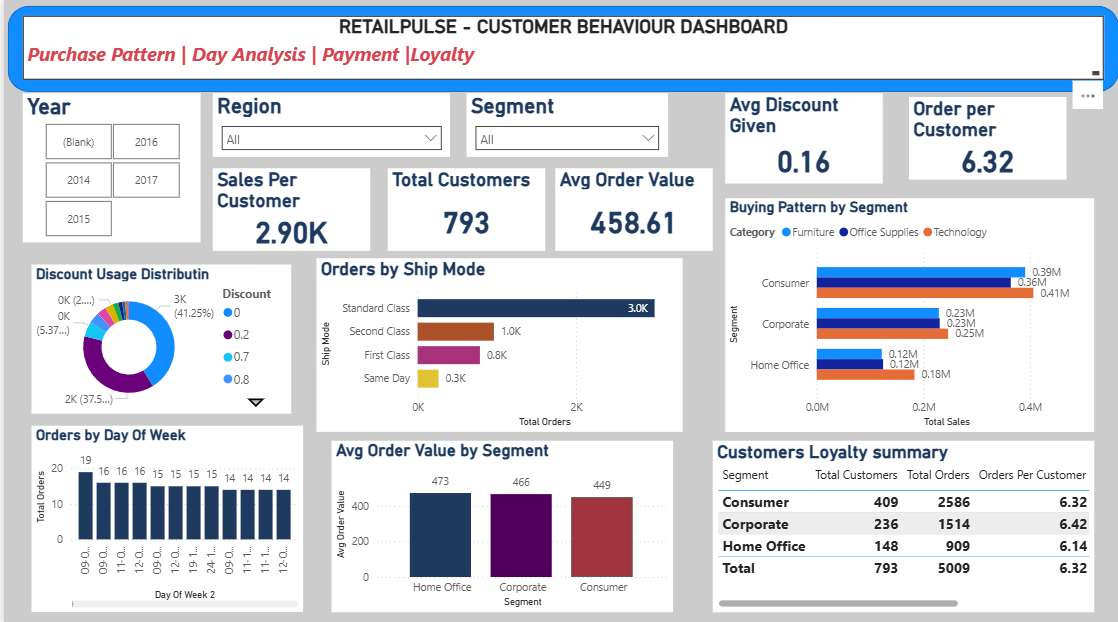

The dashboard page shown, as its layout file describes it:
{"tool":"powerbi","page":{"name":"Customer Behaviour","canvas":[1280,720],"ordinal":6},"visuals":[{"type":"shape","box":[4.3,10,1270,98.6],"z":0},{"type":"textbox","title":"RETAILPULSE - CUSTOMER BEHAVIOUR DASHBOARD","box":[21.4,21.4,1235.7,72.9],"z":1},{"type":"card","title":"Total Customers","fields":{"Values":["Sales Measures.Total Customers"]},"box":[438.6,195.7,180,94.3],"z":2},{"type":"card","title":"Order per Customer ","fields":{"Values":["Date Table.Orders Per Customer"]},"box":[1034.3,114.3,180,94.3],"z":3},{"type":"card","title":"Sales Per Customer","fields":{"Values":["Date Table.Sales Per Customer"]},"box":[238.6,195.7,180,94.3],"z":4},{"type":"card","title":"Avg Discount Given","fields":{"Values":["Date Table.Avg Discount Given"]},"box":[824.3,110,180,102.9],"z":5},{"type":"card","title":"Avg Order Value","fields":{"Values":["Sales Measures.Avg Order Value"]},"box":[630,195.7,180,94.3],"z":6},{"type":"clusteredColumnChart","title":" Orders by Day Of Week ","fields":{"Y":["Sales Measures.Total Orders"],"Category":["Sales Measures.Day Of Week 2"]},"box":[31.4,490,310,212.9],"z":7},{"type":"clusteredBarChart","title":"Buying Pattern by Segment","fields":{"Category":["Sales Measures.Segment"],"Y":["Sales Measures.Total Sales"],"Series":["Sales Measures.Category"]},"box":[824.3,230,421.4,267.1],"z":8},{"type":"donutChart","title":"Discount Usage Distributin","fields":{"Category":["Sales Measures.Discount"],"Y":["Sales Measures.Total Orders"]},"box":[31.4,305.7,297.1,170],"z":9},{"type":"clusteredBarChart","title":"Orders by Ship Mode","fields":{"Category":["Sales Measures.Ship Mode"],"Y":["Sales Measures.Total Orders"]},"box":[357.1,298.6,418.6,198.6],"z":10},{"type":"clusteredColumnChart","fields":{"Category":["Sales Measures.Segment"],"Y":["Sales Measures.Avg Order Value"]},"box":[374.3,507.1,390,195.7],"z":11},{"type":"tableEx","title":"Customers Loyalty summary","fields":{"Values":["Sales Measures.Segment","Sales Measures.Total Customers","Sales Measures.Total Orders","Date Table.Orders Per Customer","Date Table.Sales Per Customer","Sales Measures.Avg Order Value"]},"box":[810,507.1,435.7,195.7],"z":12},{"type":"slicer","title":"Year","fields":{"Values":["Date Table.Year"]},"box":[21.4,110,202.9,170],"z":13},{"type":"slicer","title":"Segment","fields":{"Values":["Sales Measures.Segment"]},"box":[528.6,110,230,72.9],"z":14},{"type":"slicer","title":"Region","fields":{"Values":["Sales Measures.Region"]},"box":[238.6,110,271.4,72.9],"z":15}]}

Visuals, with their boxes in screenshot pixels (x1, y1, x2, y2), scaled from the page's 1280x720 canvas onto the 1118x622 screenshot:
shape: [x1=4, y1=9, x2=1113, y2=94]
"RETAILPULSE - CUSTOMER BEHAVIOUR DASHBOARD" textbox: [x1=19, y1=18, x2=1098, y2=81]
"Total Customers" card: [x1=383, y1=169, x2=540, y2=251]
"Order per Customer " card: [x1=903, y1=99, x2=1061, y2=180]
"Sales Per Customer" card: [x1=208, y1=169, x2=366, y2=251]
"Avg Discount Given" card: [x1=720, y1=95, x2=877, y2=184]
"Avg Order Value" card: [x1=550, y1=169, x2=707, y2=251]
" Orders by Day Of Week " clusteredColumnChart: [x1=27, y1=423, x2=298, y2=607]
"Buying Pattern by Segment" clusteredBarChart: [x1=720, y1=199, x2=1088, y2=429]
"Discount Usage Distributin" donutChart: [x1=27, y1=264, x2=287, y2=411]
"Orders by Ship Mode" clusteredBarChart: [x1=312, y1=258, x2=678, y2=430]
clusteredColumnChart - Sales Measures.Segment x Sales Measures.Avg Order Value: [x1=327, y1=438, x2=668, y2=607]
"Customers Loyalty summary" tableEx: [x1=707, y1=438, x2=1088, y2=607]
"Year" slicer: [x1=19, y1=95, x2=196, y2=242]
"Segment" slicer: [x1=462, y1=95, x2=663, y2=158]
"Region" slicer: [x1=208, y1=95, x2=445, y2=158]
